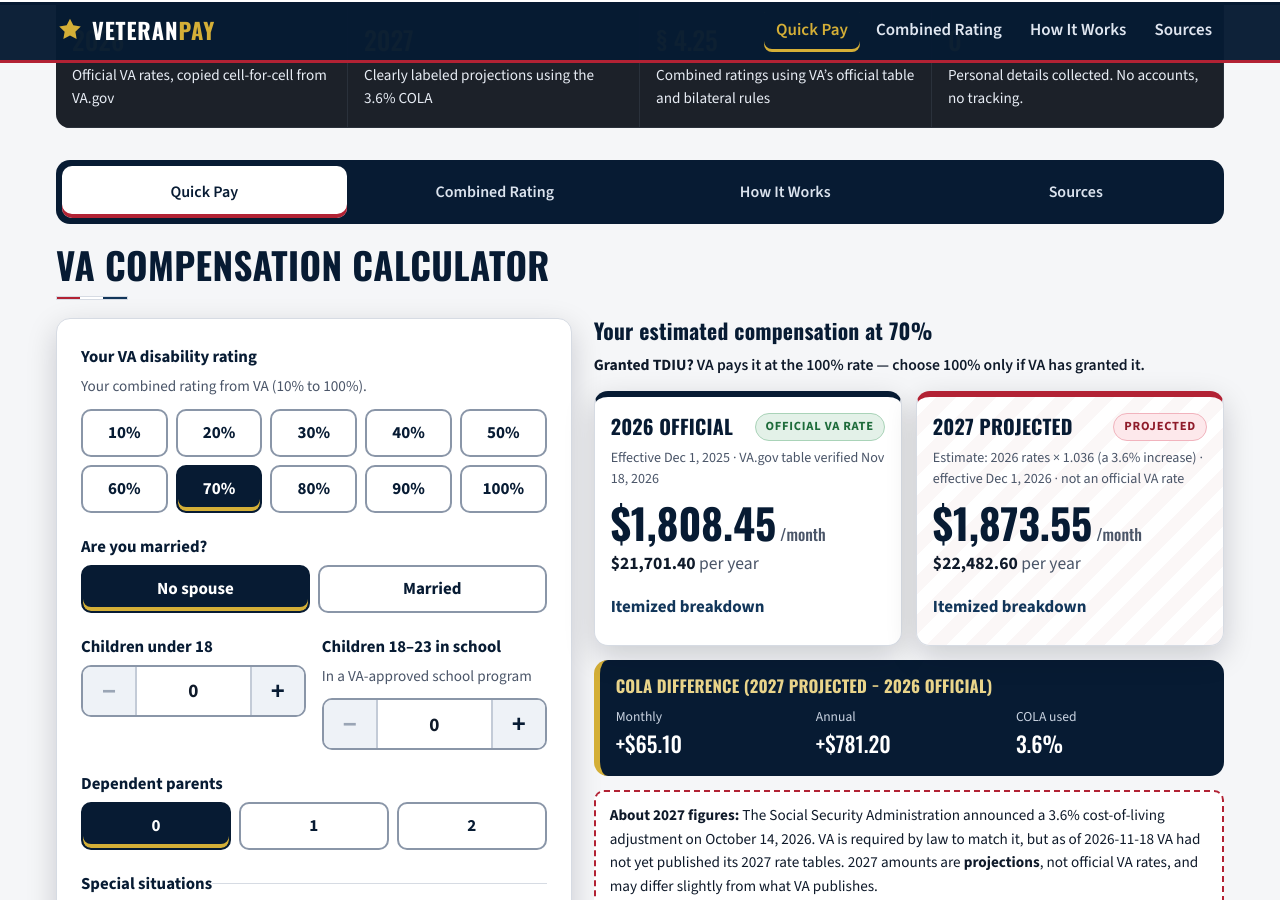
Test case: App › computes the default 70% veteran-alone amount and updates on input
(page scrolled)
Check: the text "$1,808.45" is shown, box [611,491,776,553]
Click the radio button labelled "100%".
click(503, 489)  # box [460,465,547,513]
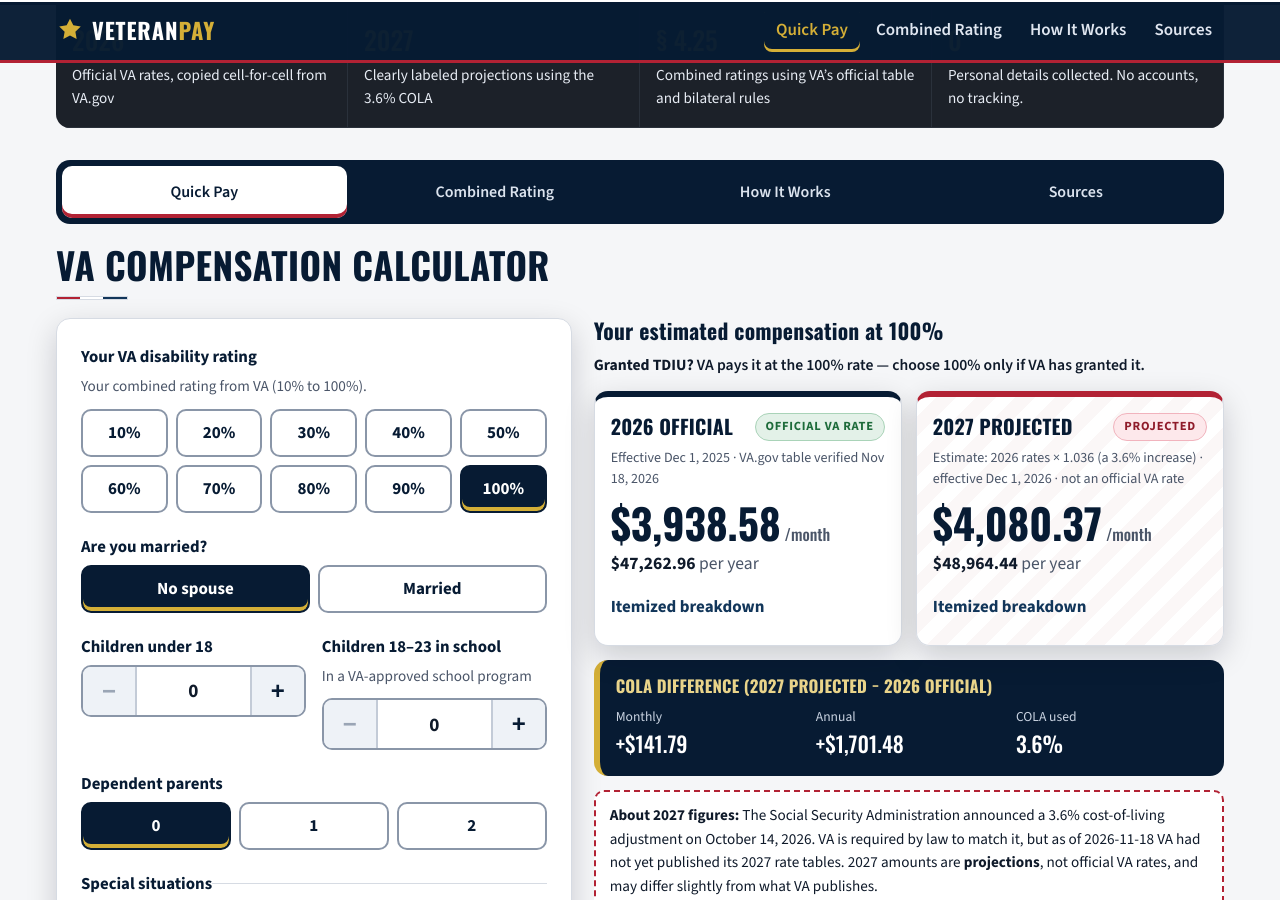
Check: the text "$3,938.58" is shown, box [611,491,781,553]
Click the radio button labelled "Married".
click(432, 589)  # box [318,565,547,613]
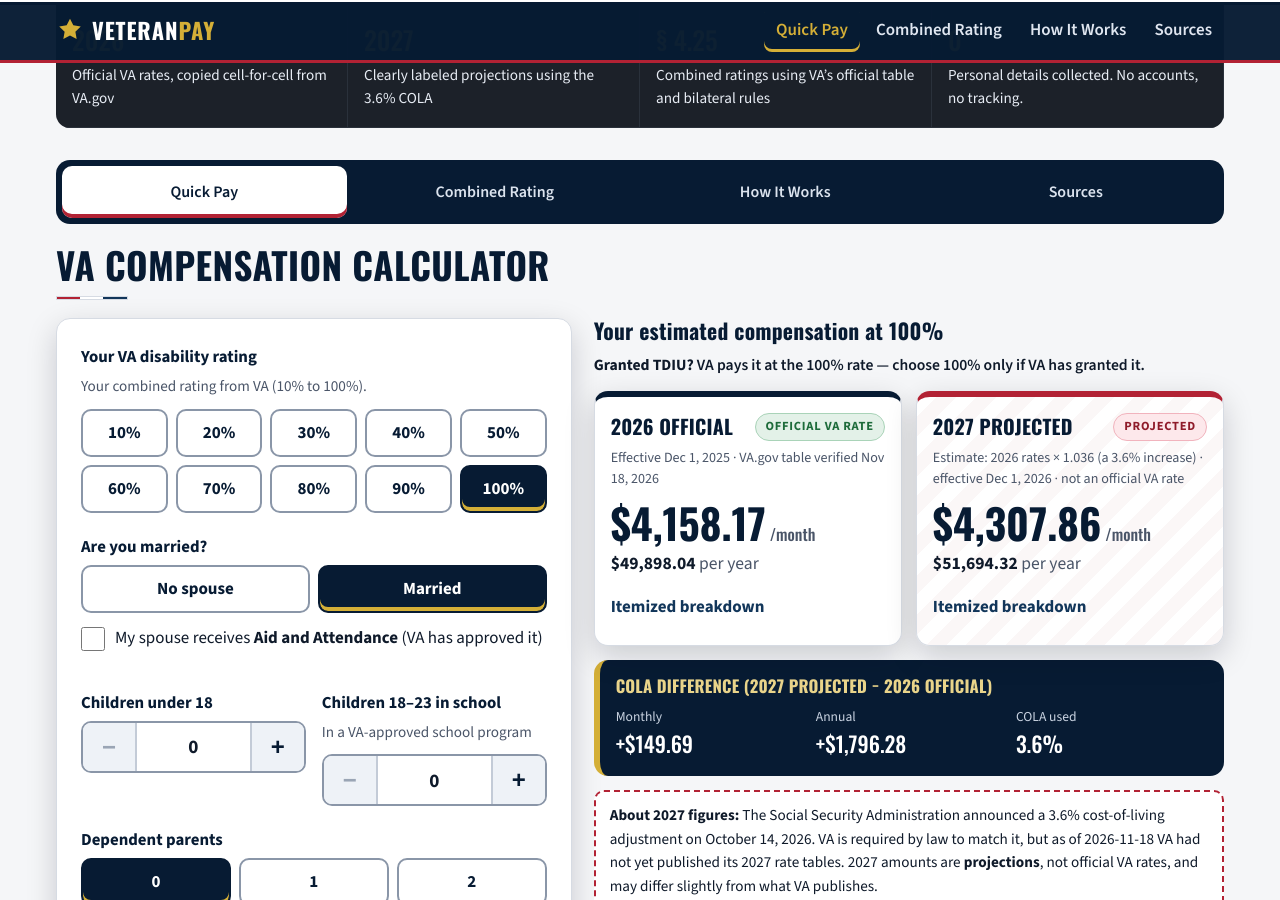
Check: the text "$4,158.17" is shown, box [611,491,766,553]
